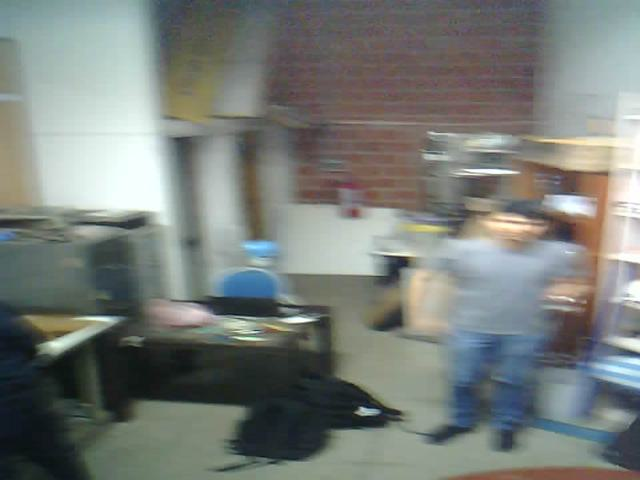person: (406, 175, 574, 465)
